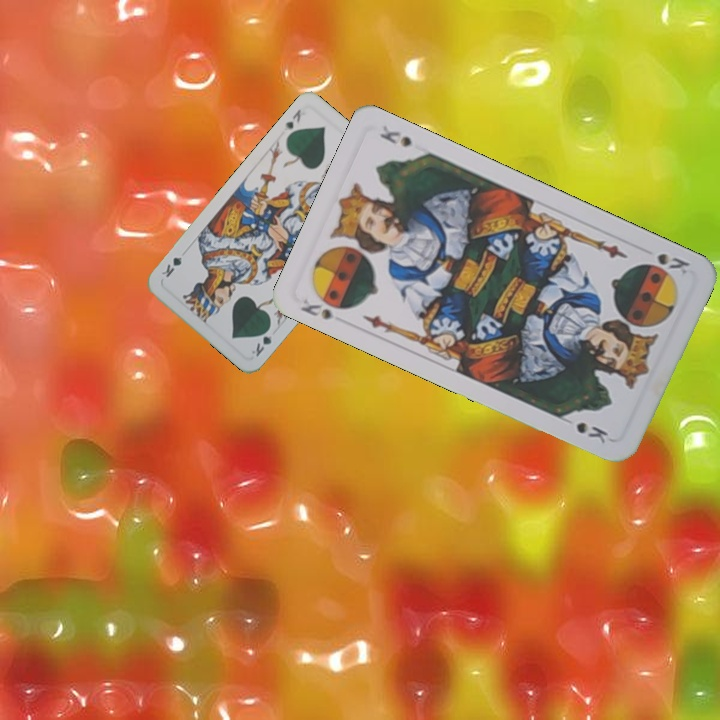GK: (247, 322, 275, 360), (280, 105, 304, 134)
SK: (296, 290, 351, 322), (639, 249, 692, 279)
